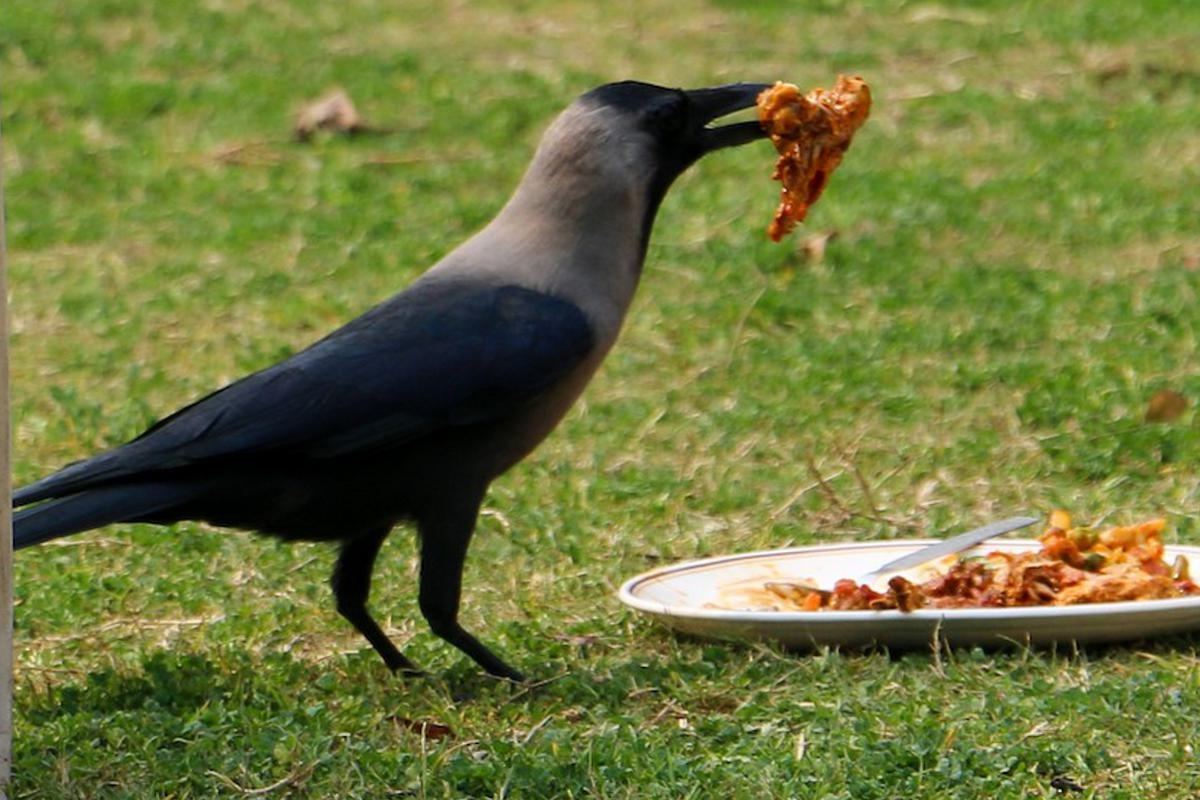crow: (8, 61, 804, 698)
